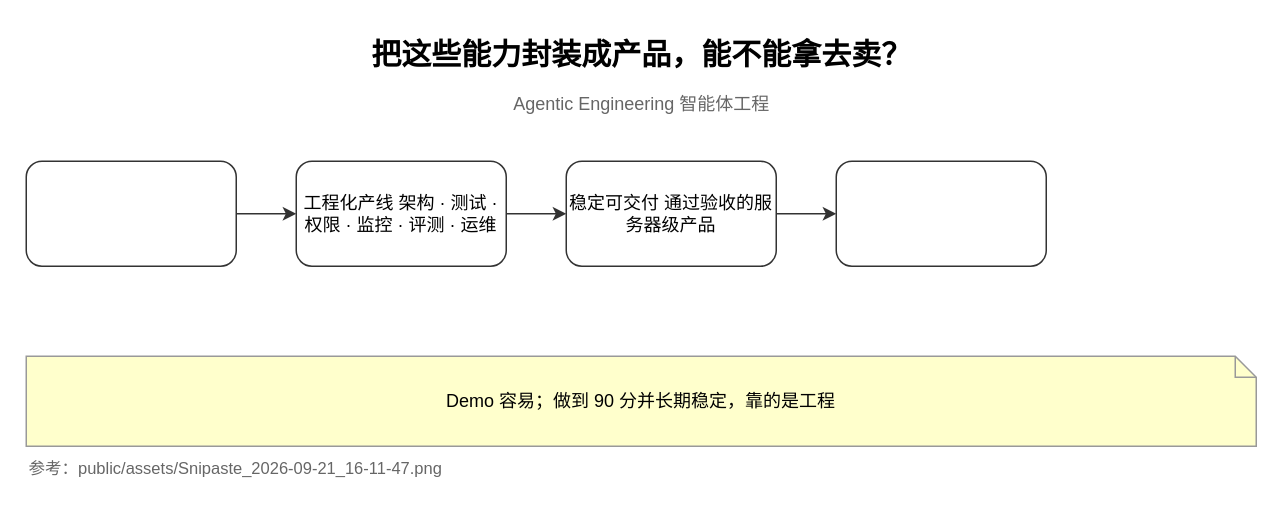
Image size: 1283x507. Some labels were removed from this diagram. Here are the shapes that lost their labels. From the top down, the centre of each, then its label:
At (x=130, y=213): "Vibe Coding 自然语言快速做出约 60 分的 Demo".
At (x=940, y=213): "部署形态 本地模型 + 一体机 | 小程序 / 云服务器 24 小时运行".
